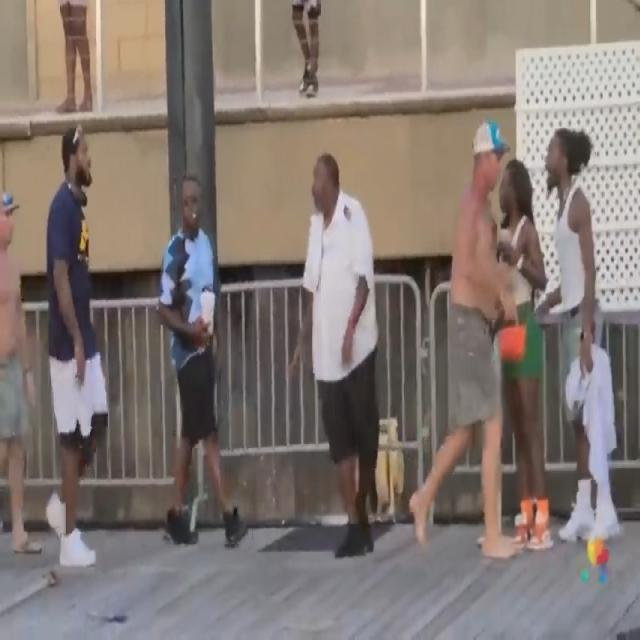non-fight: (43, 108, 380, 570), (405, 116, 640, 564)
